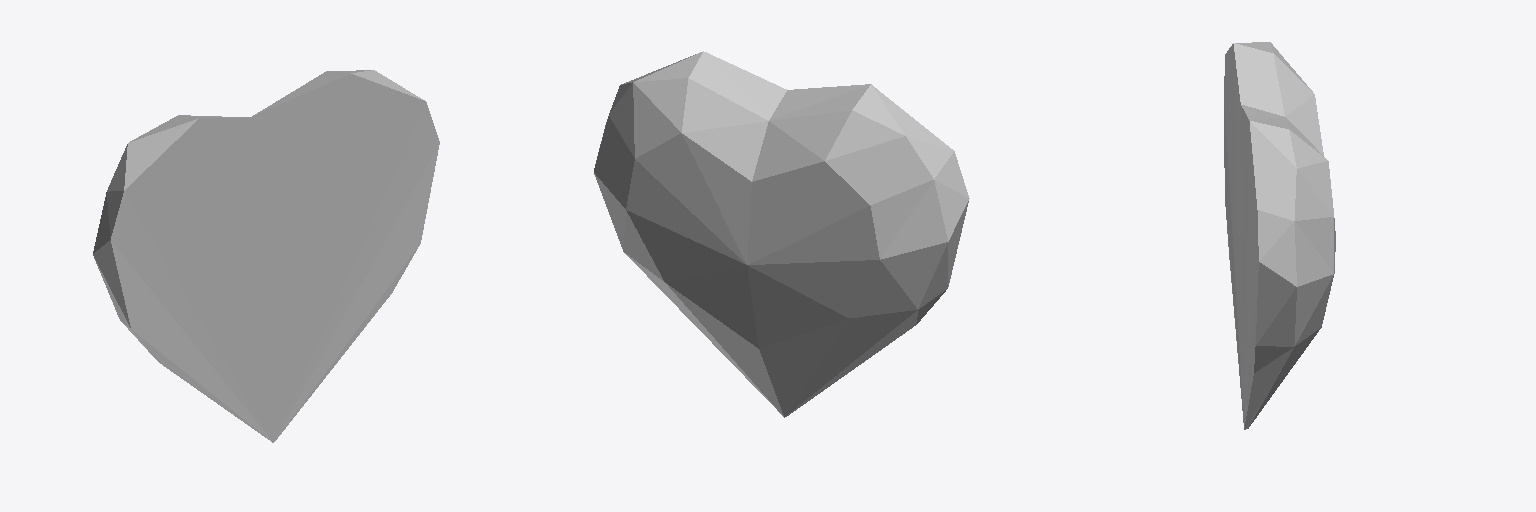
File: heart.obj
The picture shows the model from 3 angles: view 1: azimuth 30°, elevation 25°; view 2: azimuth 150°, elevation 25°; view 3: azimuth 270°, elevation 25°; orthographic projection.
Visible parts, largest first — view 1: Mesh Mesh Mesh Mesh Mesh Mesh Mesh Mesh Mesh Mesh; view 2: Mesh Mesh Mesh Mesh Mesh Mesh Mesh Mesh Mesh Mesh; view 3: Mesh Mesh Mesh Mesh Mesh Mesh Mesh Mesh Mesh Mesh.
Part boxes in pixels (left/top/right/bottom): Mesh Mesh Mesh Mesh Mesh Mesh Mesh Mesh Mesh Mesh: left=93, top=70, right=439, bottom=442; Mesh Mesh Mesh Mesh Mesh Mesh Mesh Mesh Mesh Mesh: left=594, top=51, right=969, bottom=417; Mesh Mesh Mesh Mesh Mesh Mesh Mesh Mesh Mesh Mesh: left=1224, top=42, right=1335, bottom=429.
Bounding box in the file's own units: 2.16 × 2.08 × 0.6059.